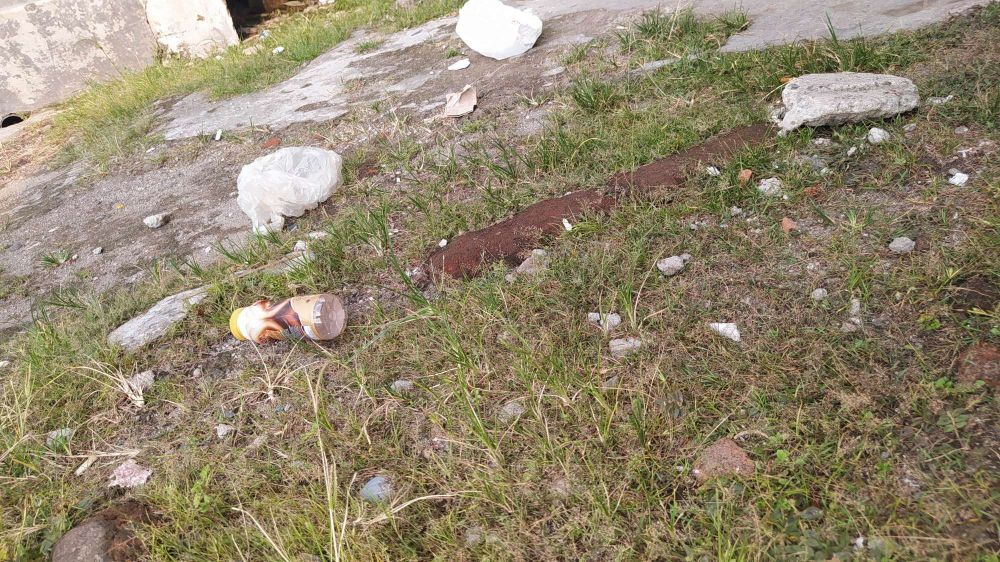botol: (224, 280, 370, 355)
plastik: (227, 148, 342, 225), (431, 5, 547, 56)
